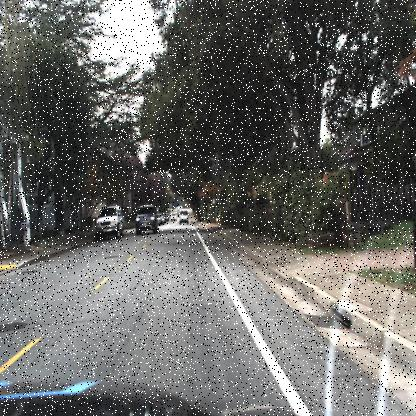car: (132, 200, 160, 237), (94, 204, 125, 237), (178, 208, 192, 226)
